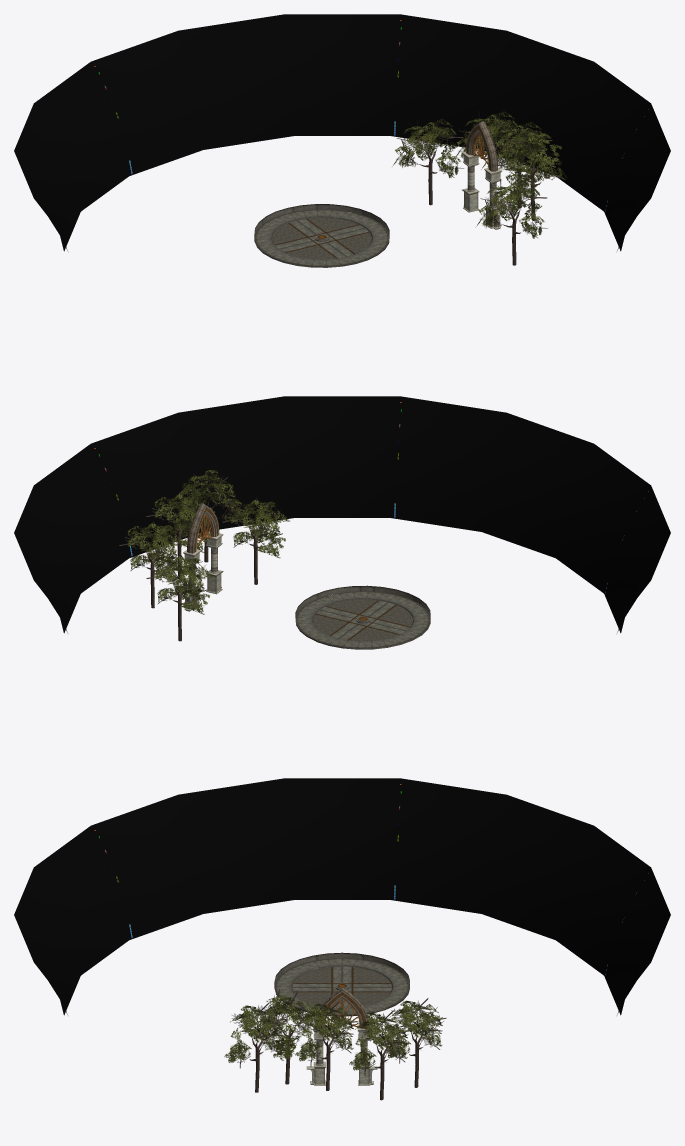
File: clz.glb
The picture shows the model from 3 angles, top to bottom: view 1: azimuth 30°, elevation 25°; view 2: azimuth 150°, elevation 25°; view 3: azimuth 270°, elevation 25°; orthographic projection.
Visible parts, largest first — view 1: obp_billboard_0, marbledecor, obp_treea_0, obp_treeb_2, obp_treeb_0, cinderblk, marbletrim, obp_treeb_3, obp_treeb_1, trimstair, obp_archtop_large_0, obp_mainsupport_0 (+2 smaller); view 2: obp_billboard_0, marbledecor, obp_treeb_2, obp_treeb_0, obp_treeb_1, obp_treea_0, cinderblk, obp_treeb_3, marbletrim, trimstair, obp_archtop_large_0, obp_mainsupport_1 (+1 smaller); view 3: obp_billboard_0, marbledecor, obp_treea_0, obp_treeb_1, obp_treeb_3, obp_treeb_0, obp_treeb_2, cinderblk, marbletrim, obp_archtop_large_0, trimstair, obp_mainsupport_1 (+2 smaller).
Part boxes in pixels (x1,y1,x2,y2): obp_billboard_0: [14, 14, 670, 251]; marbledecor: [255, 210, 388, 265]; obp_treea_0: [500, 128, 567, 220]; obp_treeb_2: [392, 118, 463, 205]; obp_treeb_0: [475, 179, 547, 265]; cinderblk: [272, 217, 371, 259]; marbletrim: [275, 219, 368, 258]; obp_treeb_3: [481, 121, 552, 208]; obp_treeb_1: [455, 111, 525, 170]; trimstair: [254, 204, 389, 267]; obp_archtop_large_0: [466, 121, 497, 171]; obp_mainsupport_0: [462, 151, 479, 212]; obp_billboard_0: [14, 396, 670, 633]; marbledecor: [296, 591, 429, 647]; obp_treeb_2: [146, 554, 214, 641]; obp_treeb_0: [222, 497, 289, 584]; obp_treeb_1: [119, 521, 186, 608]; obp_treea_0: [170, 470, 245, 562]; cinderblk: [313, 599, 412, 641]; obp_treeb_3: [146, 492, 209, 578]; marbletrim: [316, 600, 409, 639]; trimstair: [295, 585, 430, 649]; obp_archtop_large_0: [187, 503, 219, 553]; obp_mainsupport_1: [206, 533, 223, 594]; obp_billboard_0: [14, 778, 670, 1015]; marbledecor: [275, 958, 408, 1014]; obp_treea_0: [255, 988, 324, 1084]; obp_treeb_1: [349, 1010, 411, 1100]; obp_treeb_3: [295, 1001, 357, 1090]; obp_treeb_0: [224, 1003, 286, 1092]; obp_treeb_2: [384, 998, 446, 1087]; cinderblk: [294, 967, 390, 1006]; marbletrim: [292, 966, 392, 1008]; obp_archtop_large_0: [318, 987, 368, 1028]; trimstair: [274, 952, 409, 986]; obp_mainsupport_1: [306, 1024, 325, 1085].
Size of the model in its own units: 473 by 92.13 by 480.
Materials: 15 (15 with a texture image).
